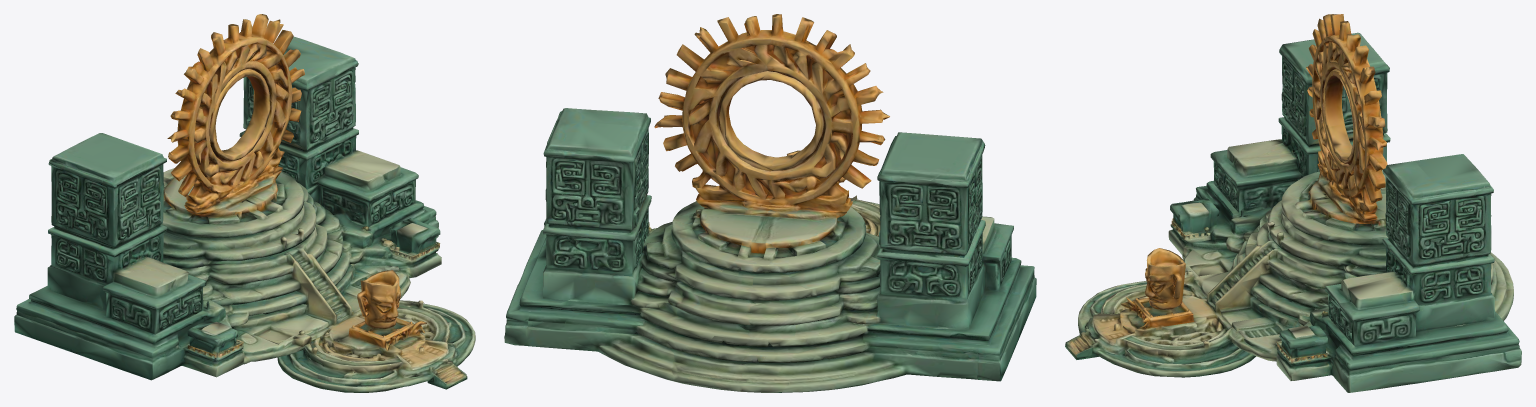
File: 09-ritual.glb
3 renders of one model, left to right at view 1: azimuth 30°, elevation 25°; view 2: azimuth 150°, elevation 25°; view 3: azimuth 270°, elevation 25°, orthographic. The views are drawn at different scales.
Visible parts, largest first — view 1: tripo_node_5a032368-2e82-4a50-9e47-821fe3712931; view 2: tripo_node_5a032368-2e82-4a50-9e47-821fe3712931; view 3: tripo_node_5a032368-2e82-4a50-9e47-821fe3712931.
Part boxes in pixels (x1=…): tripo_node_5a032368-2e82-4a50-9e47-821fe3712931: x1=14, y1=14, x2=475, y2=392; tripo_node_5a032368-2e82-4a50-9e47-821fe3712931: x1=504, y1=14, x2=1036, y2=392; tripo_node_5a032368-2e82-4a50-9e47-821fe3712931: x1=1065, y1=14, x2=1521, y2=392.
Bounding box in the file's own units: 1.41 × 0.9141 × 1.32.
Materials: 1 (1 with a texture image).
